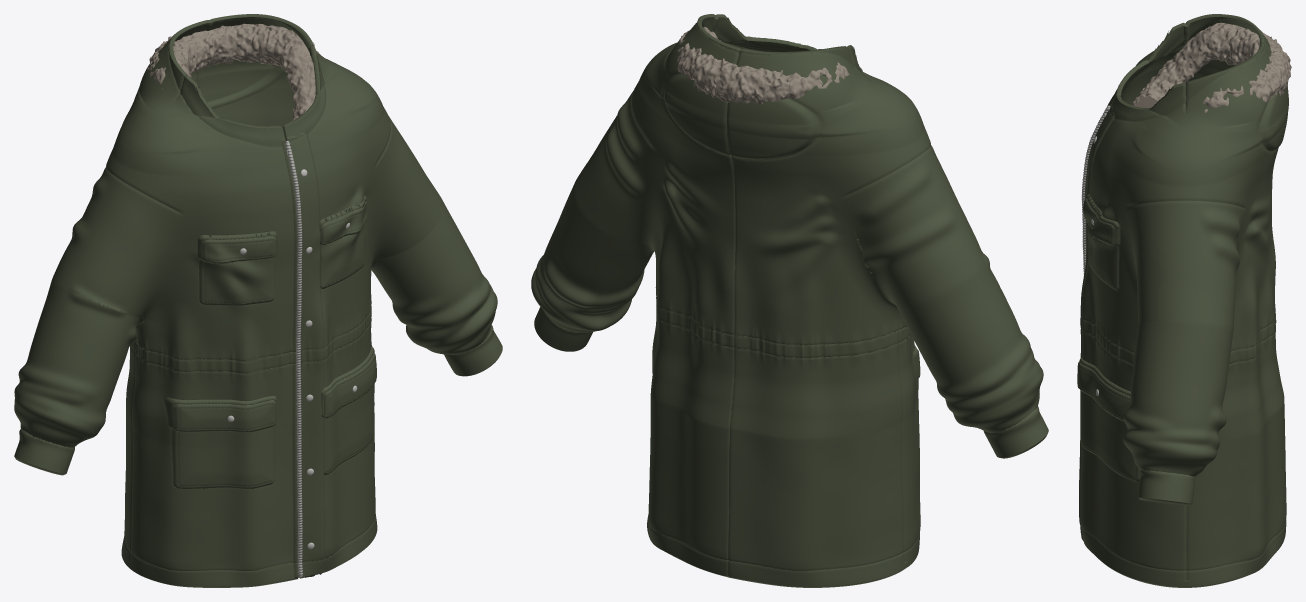
File: 04_parka.glb
3 renders of one model, left to right at view 1: azimuth 30°, elevation 25°; view 2: azimuth 150°, elevation 25°; view 3: azimuth 270°, elevation 25°, orthographic. The views are drawn at different scales.
Visible parts, largest first — view 1: body, trim, zipper; view 2: body, trim; view 3: body, trim, zipper.
Part boxes in pixels (x1,y1,x2,y2): body: [14, 14, 502, 587]; trim: [147, 23, 318, 120]; zipper: [285, 140, 303, 577]; body: [531, 14, 1048, 587]; trim: [677, 26, 849, 104]; body: [1077, 14, 1288, 587]; trim: [1131, 22, 1291, 112]; zipper: [1081, 105, 1110, 276].
Bounding box in the file's own units: 1.01 × 0.9978 × 0.3936.
